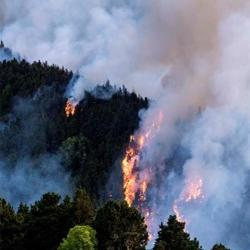fire: (121, 145, 144, 198)
smoke: (159, 4, 245, 97)
